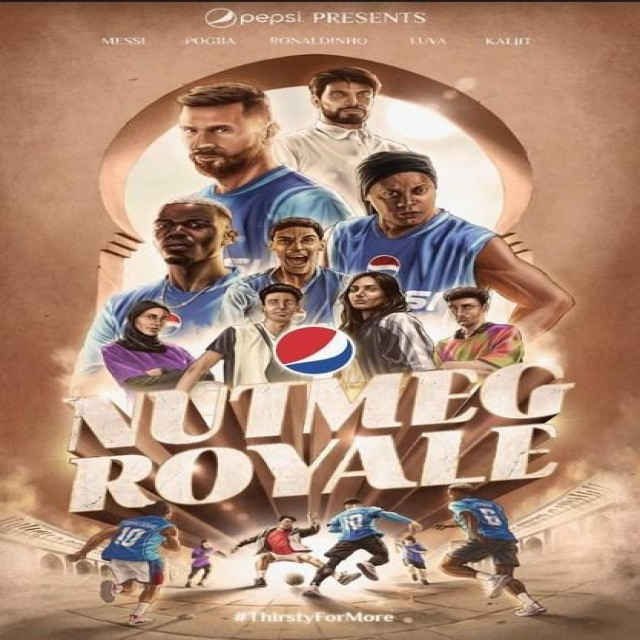pepsi: (270, 321, 360, 380)
